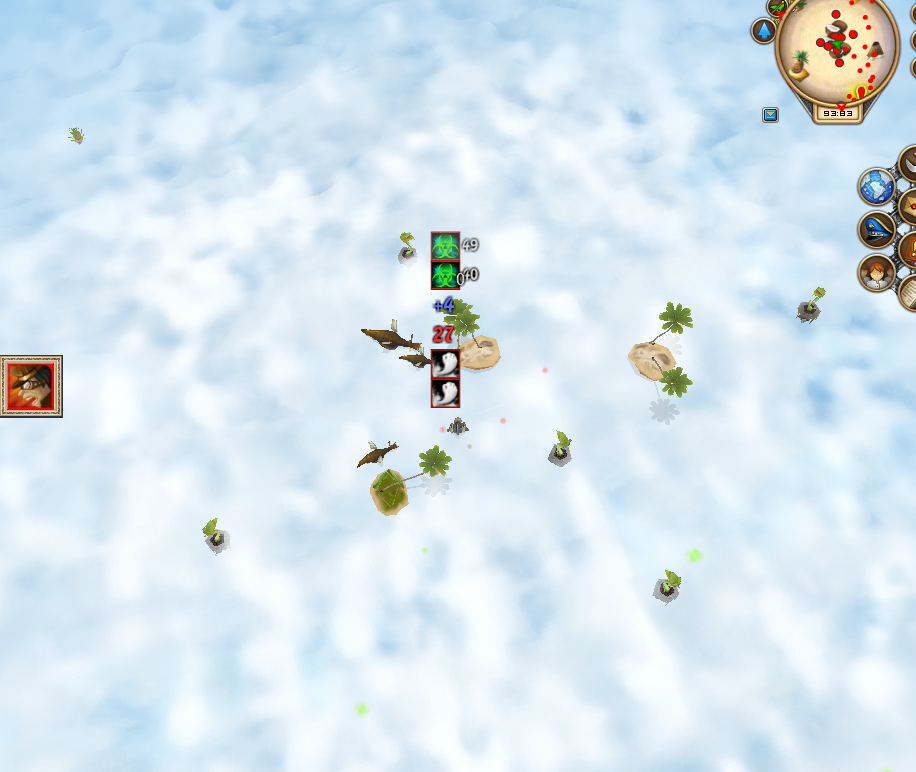palm: (616, 299, 698, 425), (367, 447, 455, 517), (441, 291, 506, 374)
